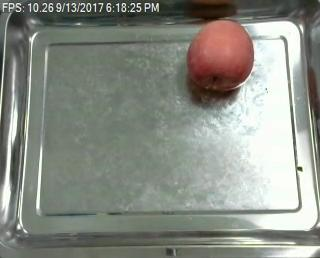apple: (184, 19, 254, 92)
